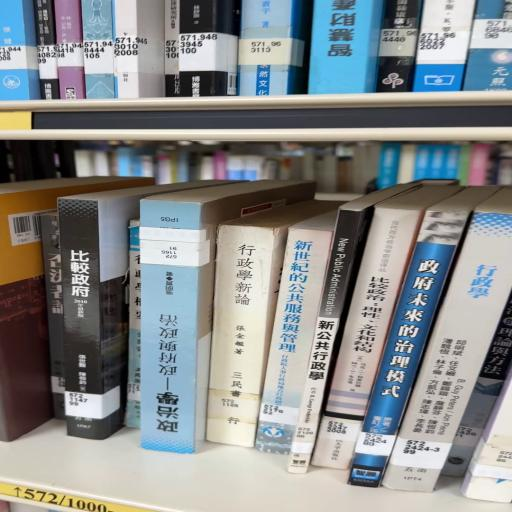reverse: (141, 181, 316, 455)
